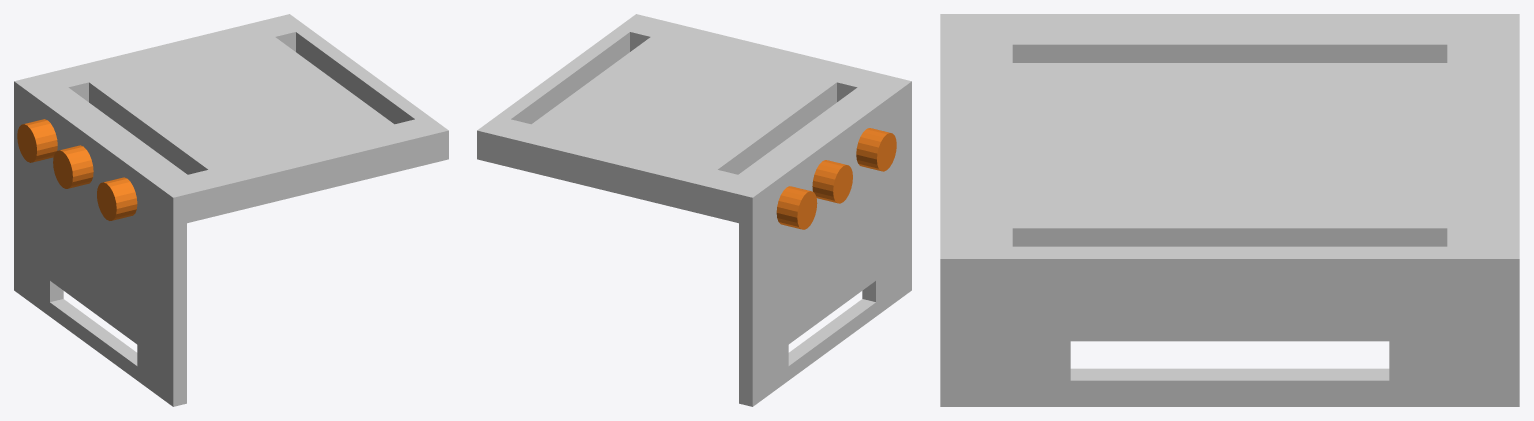
Rendered from tinker.obj.
3 views of the same model, side by side, from view 1: azimuth 30°, elevation 25°; view 2: azimuth 150°, elevation 25°; view 3: azimuth 270°, elevation 25° (orthographic). The views are drawn at different scales.
Visible parts, largest first — view 1: group_0_16448250, group_0_16089887; view 2: group_0_16448250, group_0_16089887; view 3: group_0_16448250.
Part boxes in pixels (box(x1,y1,x2,y2)): group_0_16448250: box(14, 14, 448, 406); group_0_16089887: box(17, 119, 137, 220); group_0_16448250: box(477, 14, 911, 406); group_0_16089887: box(776, 128, 896, 229); group_0_16448250: box(940, 14, 1519, 406).
Bounding box in the file's own units: 43 × 29 × 40.
